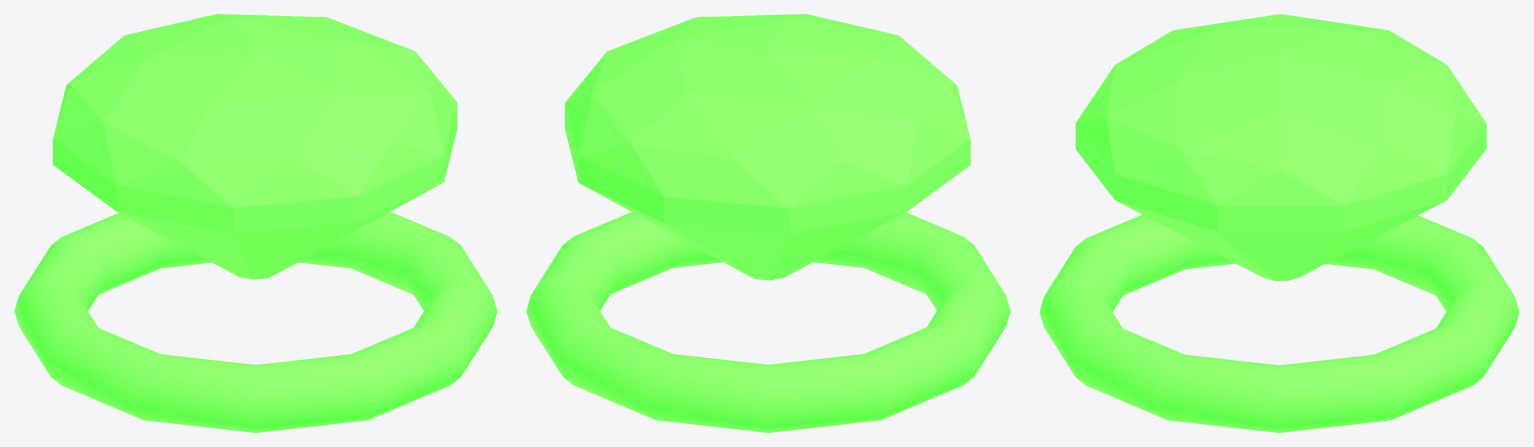
File: TeleportMarker.fbx
The picture shows the model from 3 angles, left to right: view 1: azimuth 30°, elevation 25°; view 2: azimuth 150°, elevation 25°; view 3: azimuth 270°, elevation 25°; orthographic projection.
Visible parts, largest first — view 1: TeleportMarker; view 2: TeleportMarker; view 3: TeleportMarker.
Part boxes in pixels (box(x1,y1,x2,y2)): TeleportMarker: box(14, 14, 497, 432); TeleportMarker: box(526, 14, 1010, 432); TeleportMarker: box(1039, 14, 1519, 432).
Bounding box in the file's own units: 0.746 × 0.492 × 0.746.
